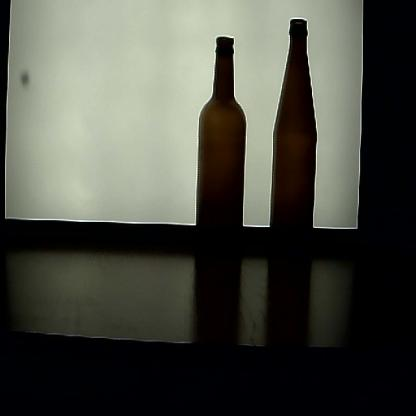Can: (271, 15, 320, 273), (197, 35, 247, 260)
